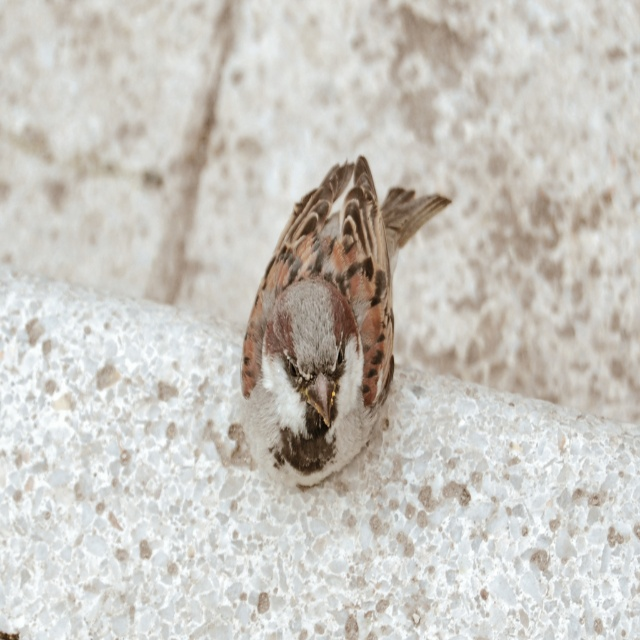Sparrow: (243, 150, 454, 487)
